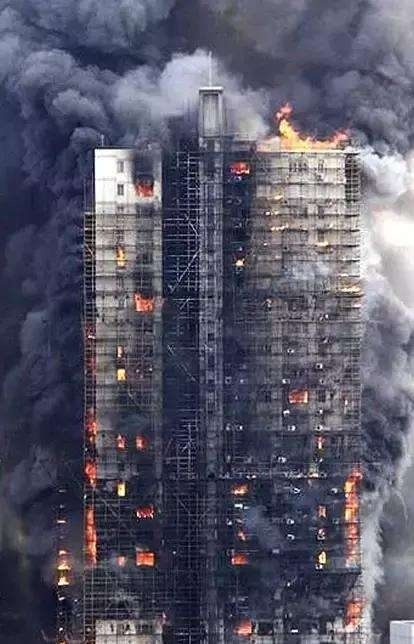fire: (272, 107, 347, 151), (342, 469, 361, 549), (82, 506, 96, 562), (54, 548, 72, 588), (344, 596, 362, 625), (131, 291, 155, 312), (134, 176, 155, 198), (82, 459, 97, 486), (228, 159, 250, 177), (287, 386, 308, 403), (84, 416, 98, 441), (114, 242, 127, 267), (113, 343, 125, 368), (234, 619, 251, 635), (136, 549, 154, 564), (135, 505, 155, 518), (229, 552, 245, 564), (115, 479, 126, 496), (232, 484, 246, 496), (135, 433, 145, 449), (114, 433, 124, 449), (236, 530, 245, 541)
